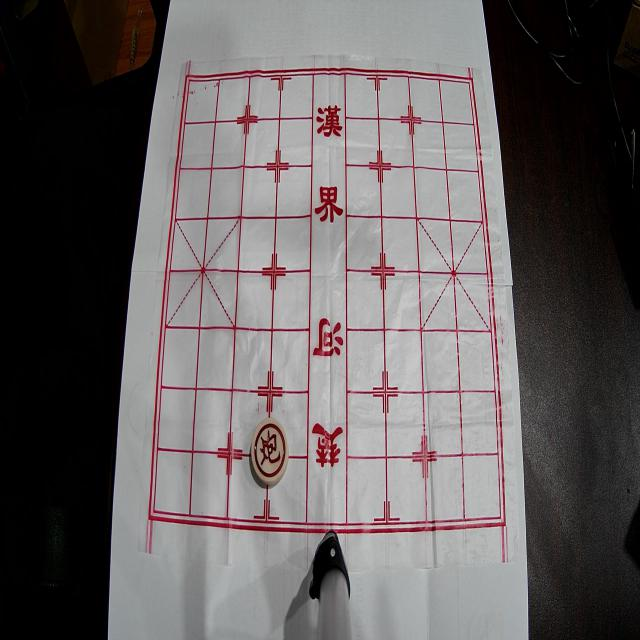red-cannon: (251, 418, 289, 485)
